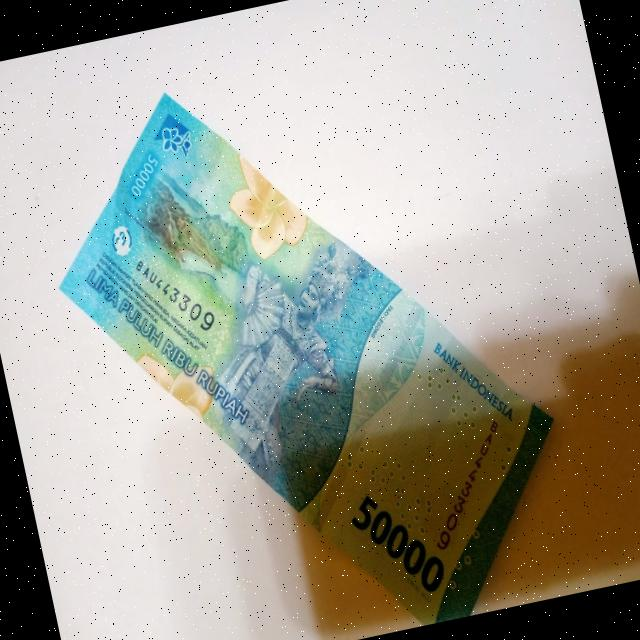50K: (9, 22, 594, 640)
